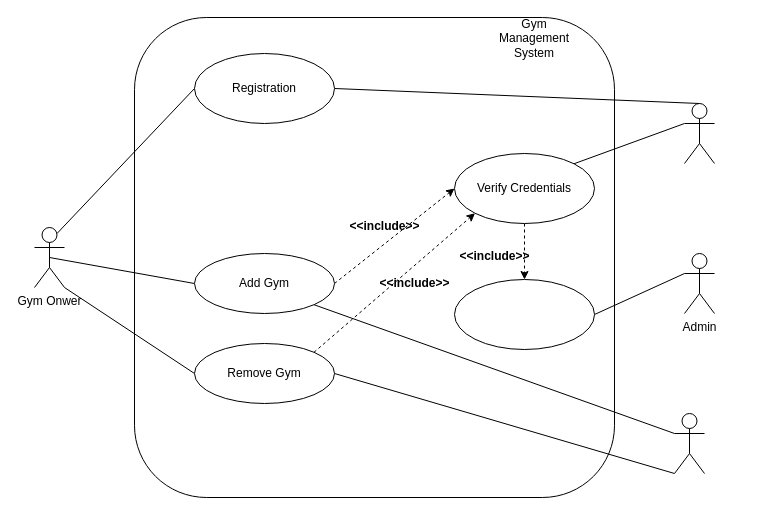
Some shapes in this 771 by 515 pixel diagram are drawn without their labels. Here are the shapes that lost their labels. From the top down, the box of each, then its label:
(684, 102, 714, 164): Auth Credentials DB
(454, 278, 594, 350): Is Registration Approved
(674, 412, 704, 474): Gym Catalogue
